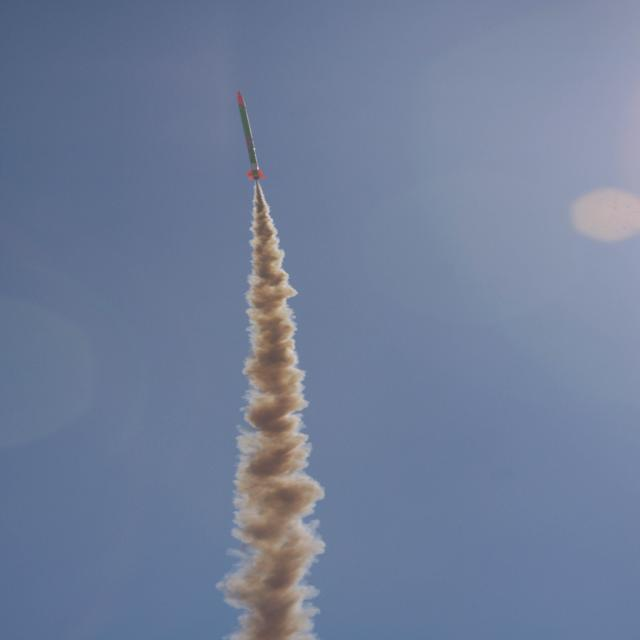Rocket: (236, 90, 266, 180)
